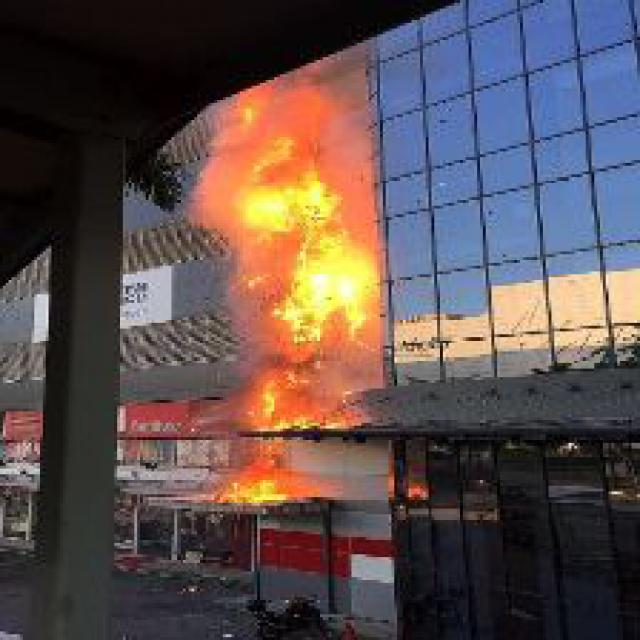fire: (197, 117, 383, 420), (209, 448, 314, 508)
